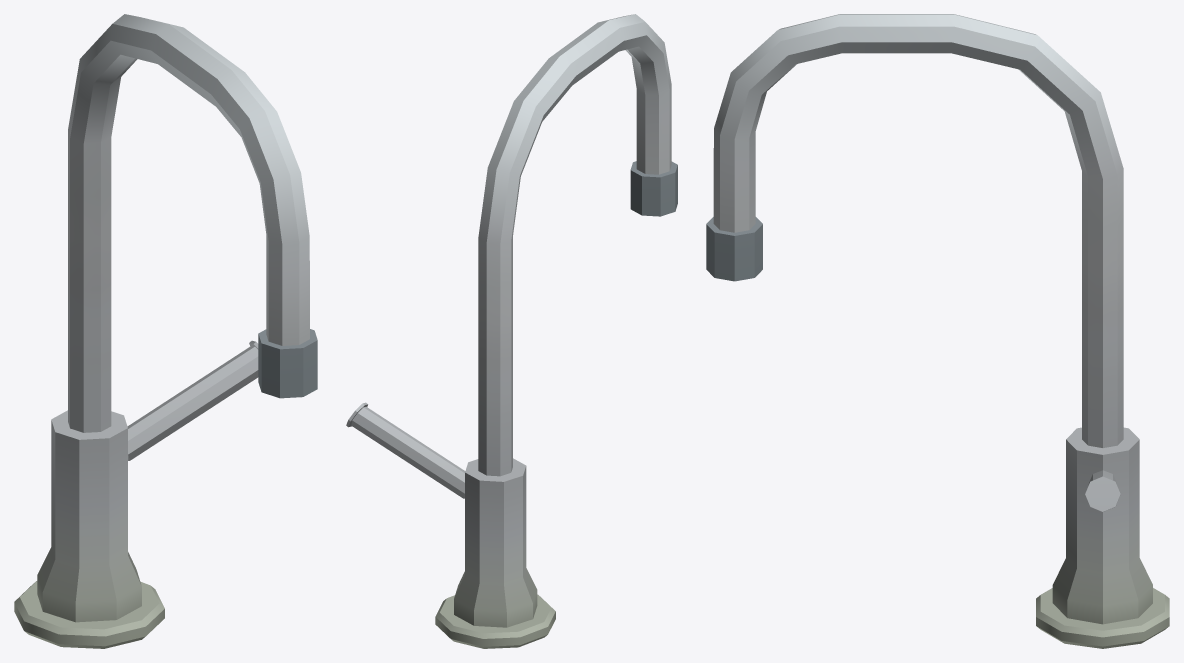
Rendered from faucet.glb.
3 renders of one model, left to right at view 1: azimuth 30°, elevation 25°; view 2: azimuth 150°, elevation 25°; view 3: azimuth 270°, elevation 25°, orthographic. The views are drawn at different scales.
Visible parts, largest first — view 1: SM_Faucet_Gooseneck_01; view 2: SM_Faucet_Gooseneck_01; view 3: SM_Faucet_Gooseneck_01.
Boxes of the visible parts, box(x1,y1,x2,y2) form: SM_Faucet_Gooseneck_01: box(14, 14, 317, 648); SM_Faucet_Gooseneck_01: box(346, 14, 677, 648); SM_Faucet_Gooseneck_01: box(706, 14, 1169, 648).
Bounding box in the file's own units: 0.159 × 0.4 × 0.2769.
Materials: 1 (1 with a texture image).
